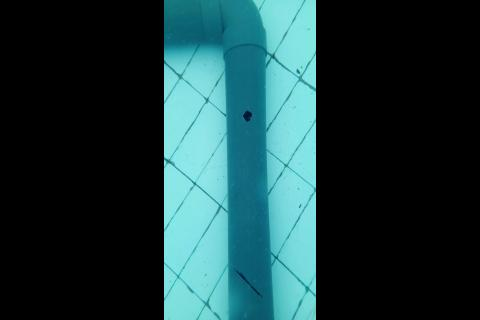kebocoran: (242, 109, 254, 124)
keretakan: (232, 268, 264, 299)
